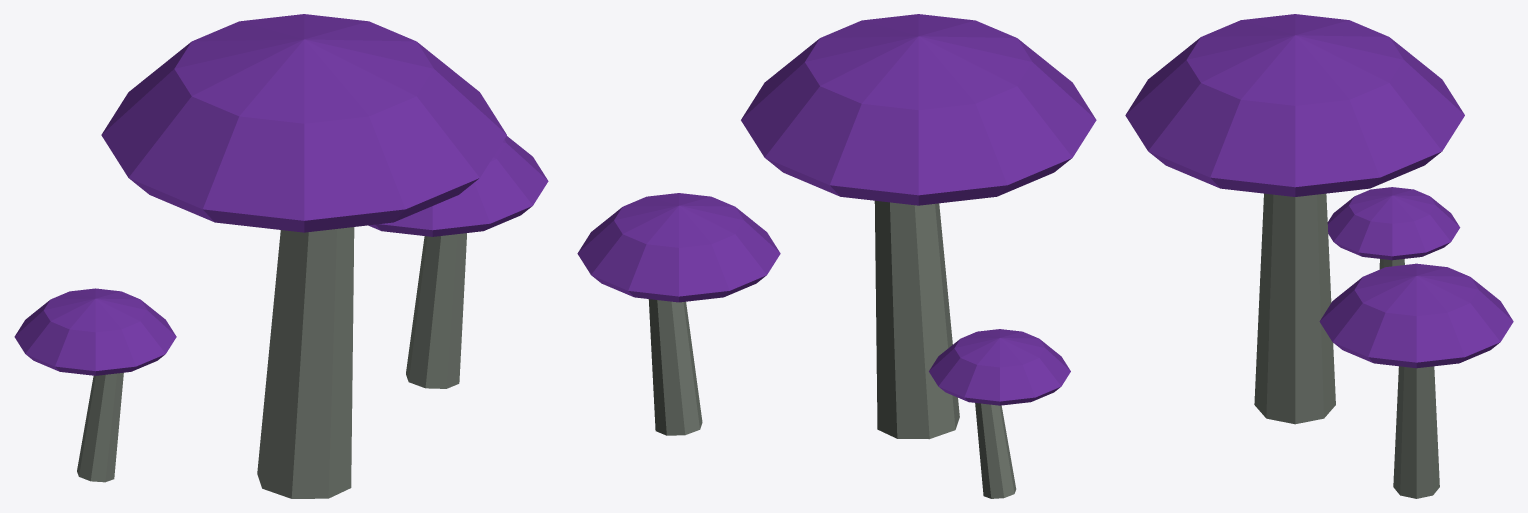
Rendered from Cogumelos_do_breu_LOD0.fbx.
3 renders of one model, left to right at view 1: azimuth 30°, elevation 25°; view 2: azimuth 150°, elevation 25°; view 3: azimuth 270°, elevation 25°, orthographic. The views are drawn at different scales.
Visible parts, largest first — view 1: Cogumelos_do_breu_LOD0; view 2: Cogumelos_do_breu_LOD0; view 3: Cogumelos_do_breu_LOD0.
Part boxes in pixels (bbox=[...]): Cogumelos_do_breu_LOD0: bbox=[14, 14, 548, 498]; Cogumelos_do_breu_LOD0: bbox=[577, 14, 1096, 498]; Cogumelos_do_breu_LOD0: bbox=[1125, 14, 1513, 498].
Bounding box in the file's own units: 104 × 84.48 × 80.
Materials: 1 (1 with a texture image).
